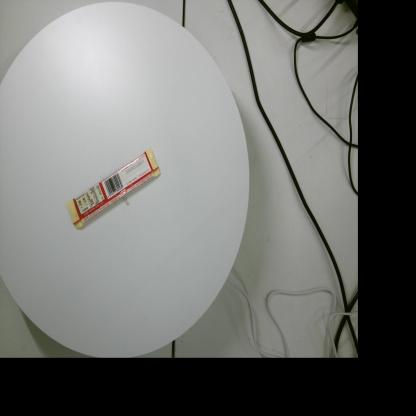Chocolate: (66, 148, 161, 229)
